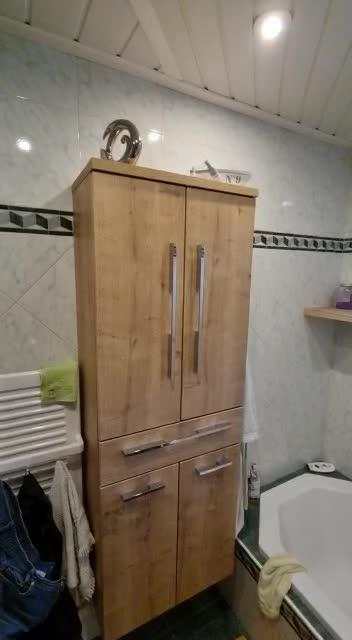cabinet_door: (88, 178, 186, 437), (190, 195, 251, 406), (109, 469, 178, 634), (181, 460, 239, 579), (96, 436, 248, 462)
handle: (119, 417, 238, 463), (195, 216, 209, 380), (170, 231, 182, 371), (119, 480, 165, 507), (195, 459, 233, 484)
